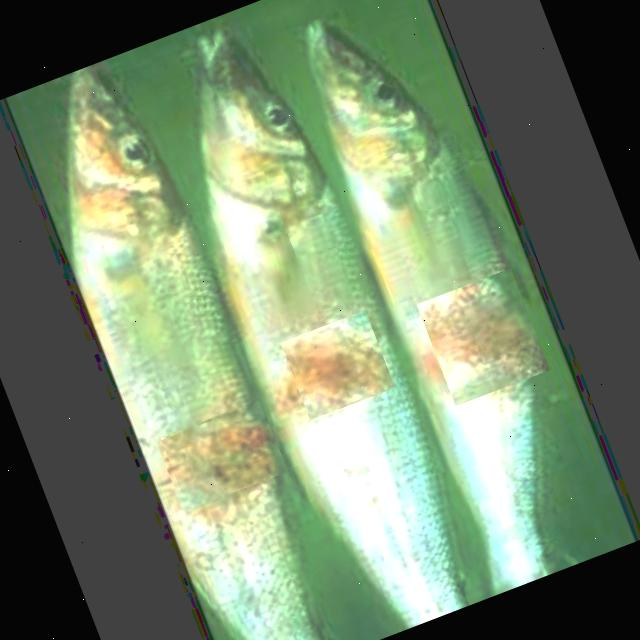Aeromonas Septicemia: (199, 37, 459, 628), (68, 63, 320, 640), (325, 33, 545, 589)
